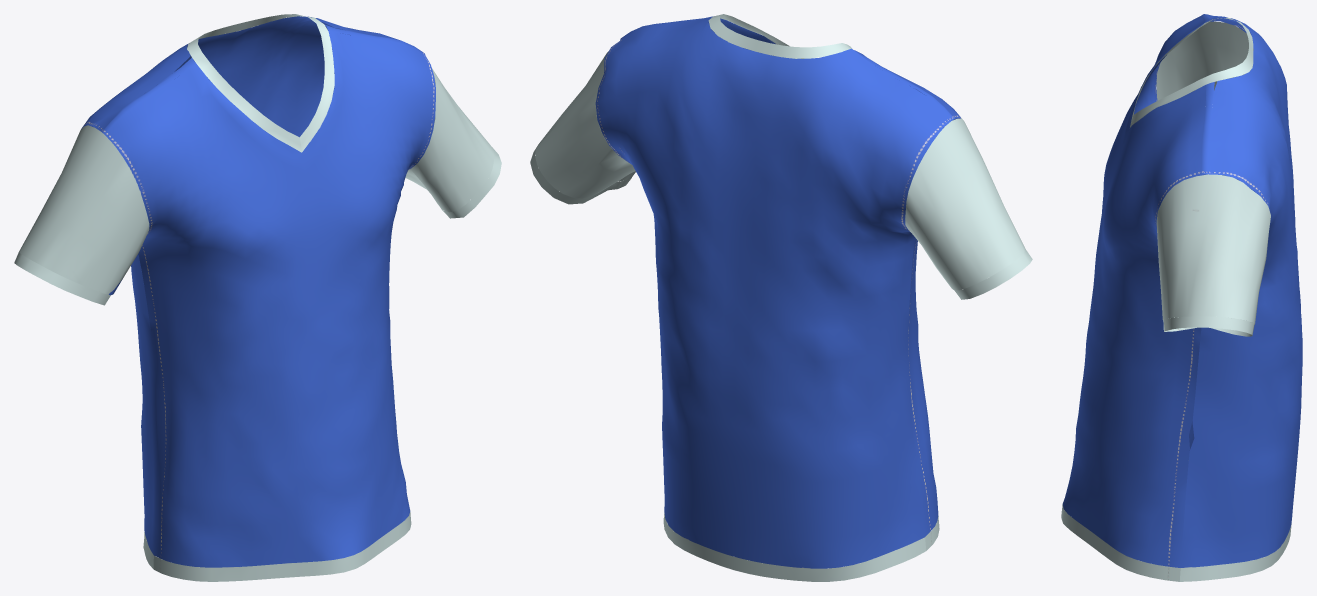
The model's file is TShirt.glb.
The picture shows the model from 3 angles, left to right: view 1: azimuth 30°, elevation 25°; view 2: azimuth 150°, elevation 25°; view 3: azimuth 270°, elevation 25°; orthographic projection. The views are drawn at different scales.
Parts seen in each view (by area): view 1: TShirt; view 2: TShirt; view 3: TShirt.
Part boxes in pixels (x1=…): TShirt: x1=14, y1=14, x2=501, y2=581; TShirt: x1=530, y1=14, x2=1032, y2=581; TShirt: x1=1061, y1=14, x2=1302, y2=581.
Bounding box in the file's own units: 0.7434 × 0.7522 × 0.3371.
Materials: 1 (1 with a texture image).
